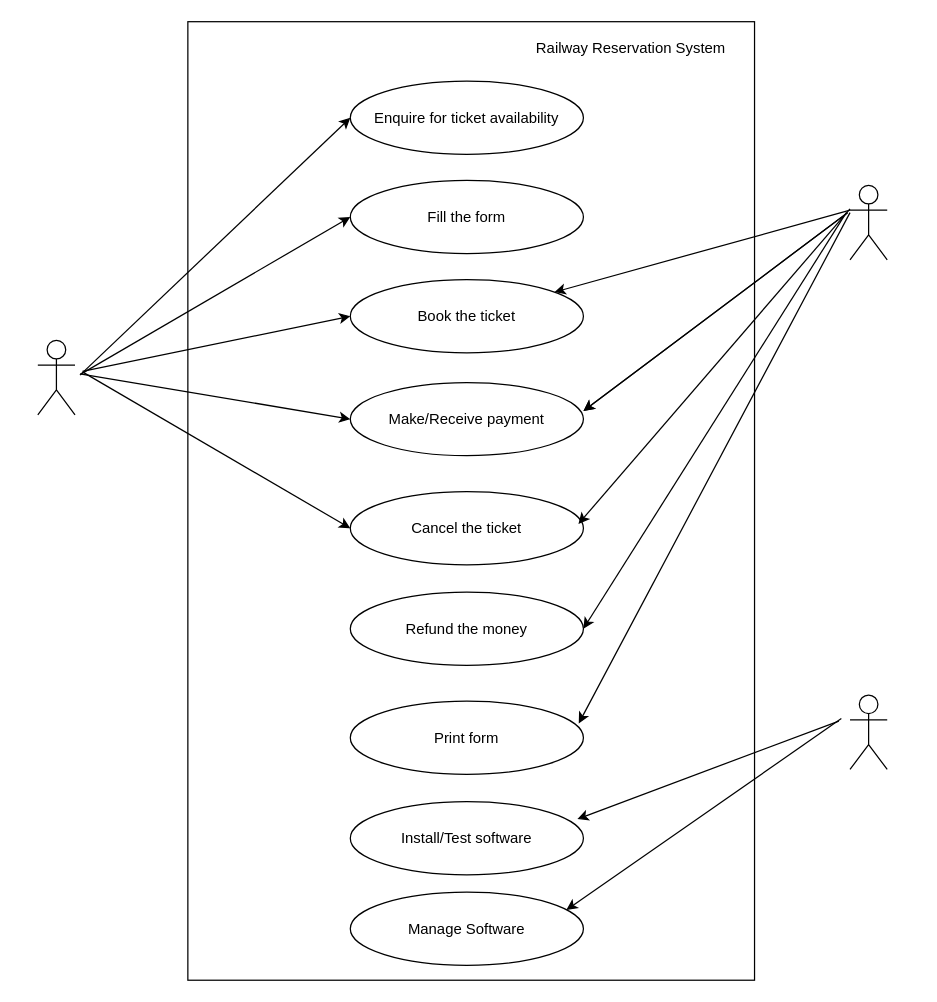
Image size: 937x1002. Some labels were removed from this diagram. The shapes that lost their labels are listed below. From the top down, each one's centre as x and y in pixels, then its label:
At (868,222): "Clerk".
At (56,377): "Passenger".
At (868,731): "System Admin".
